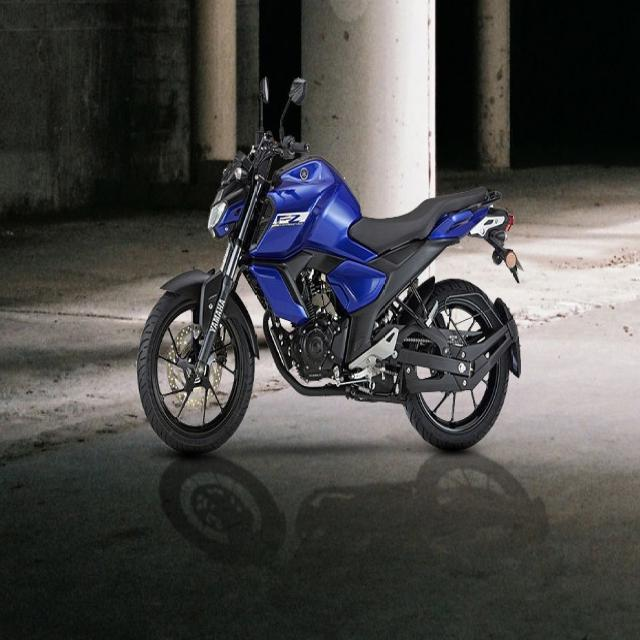bike: (138, 73, 523, 454)
